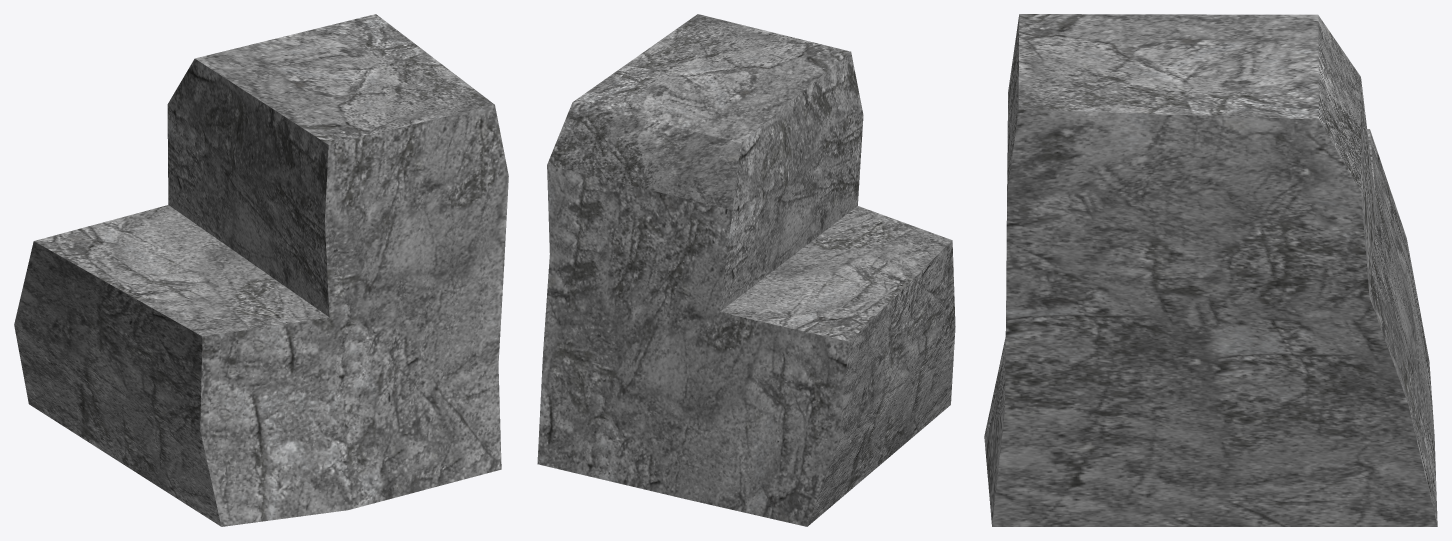
File: materials_3_rubble_8.fbx
The picture shows the model from 3 angles, left to right: view 1: azimuth 30°, elevation 25°; view 2: azimuth 150°, elevation 25°; view 3: azimuth 270°, elevation 25°; orthographic projection. The views are drawn at different scales.
Parts seen in each view (by area): view 1: materials_3_rubble_8; view 2: materials_3_rubble_8; view 3: materials_3_rubble_8.
Part boxes in pixels (x1,y1,x2,y2): materials_3_rubble_8: [14, 14, 508, 526]; materials_3_rubble_8: [537, 14, 955, 526]; materials_3_rubble_8: [984, 14, 1437, 526].
Size of the model in its own units: 58.45 by 59.39 by 58.11.
